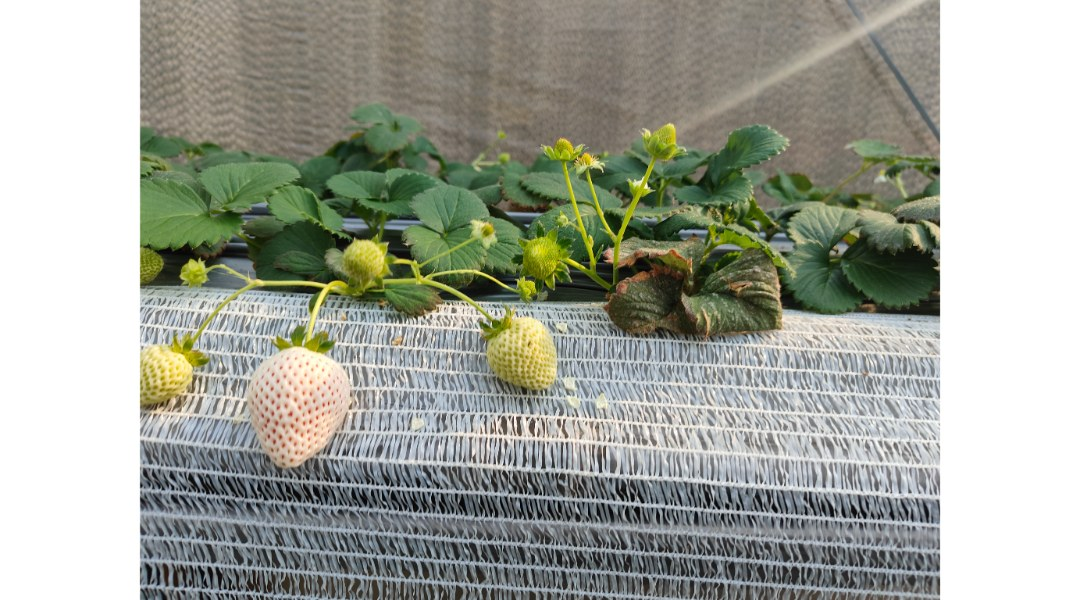berry: (242, 335, 356, 477), (126, 331, 212, 419), (482, 314, 564, 406), (514, 227, 568, 293), (336, 235, 393, 293), (640, 120, 680, 167), (173, 253, 210, 293)
strain: (558, 164, 600, 271), (615, 172, 647, 295), (199, 284, 236, 331), (432, 281, 484, 312), (255, 271, 317, 297), (585, 177, 617, 223)
